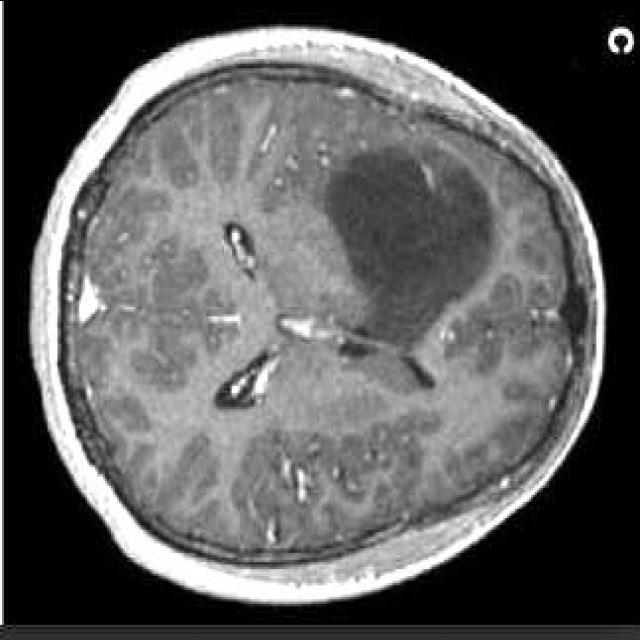tumor: (321, 141, 497, 350)
